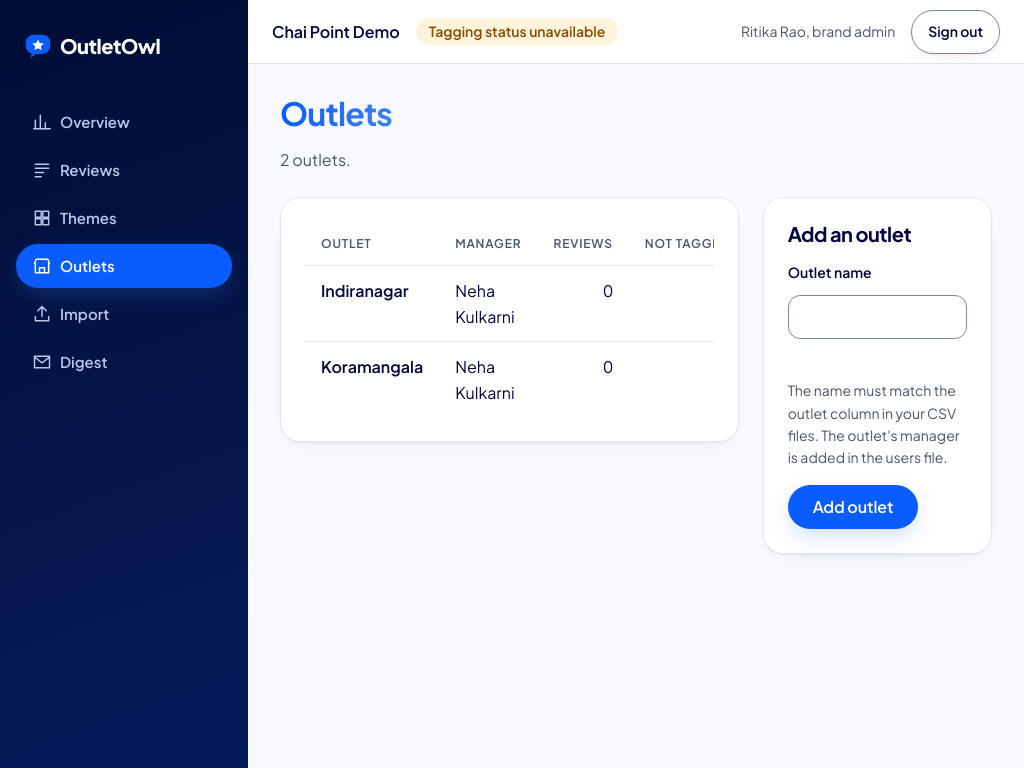
Test: OutletsPage › an added outlet appears in the table in name order
Expected: the column heading "Koramangala" is shown, left=305, top=342, right=439, bottom=417
Type "HSR Layout" into the field labelled "Outlet name". click: (877, 317)
box: left=788, top=295, right=967, bottom=339
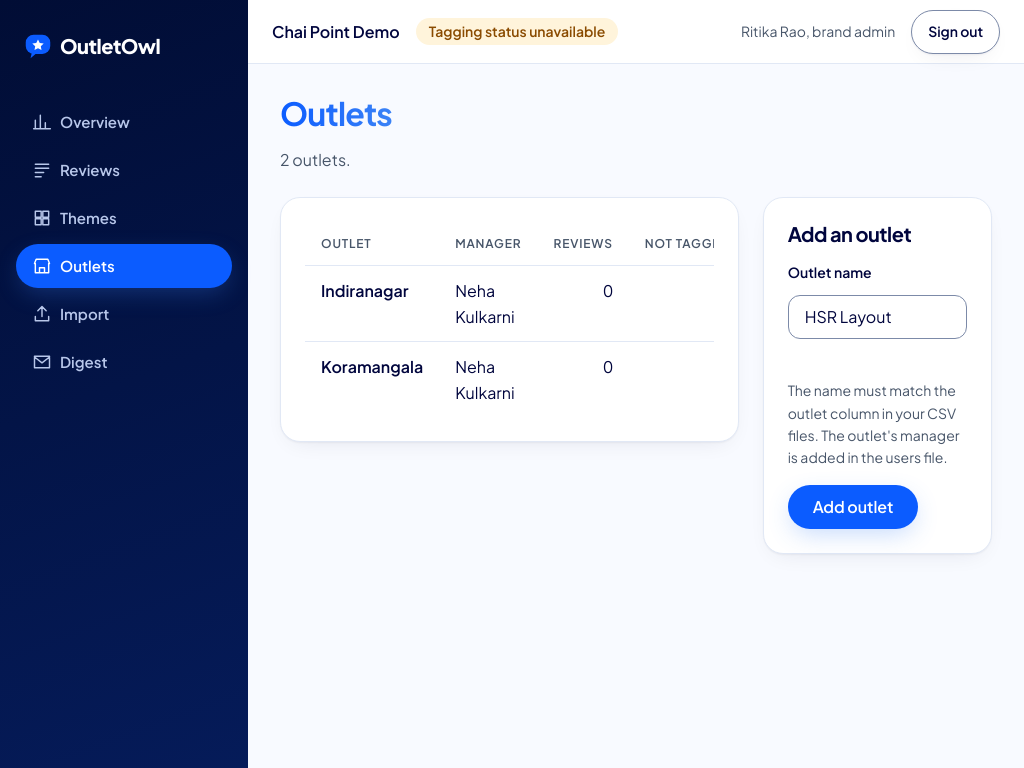
Click the button "Add outlet". click: (853, 507)
box: left=788, top=485, right=918, bottom=529
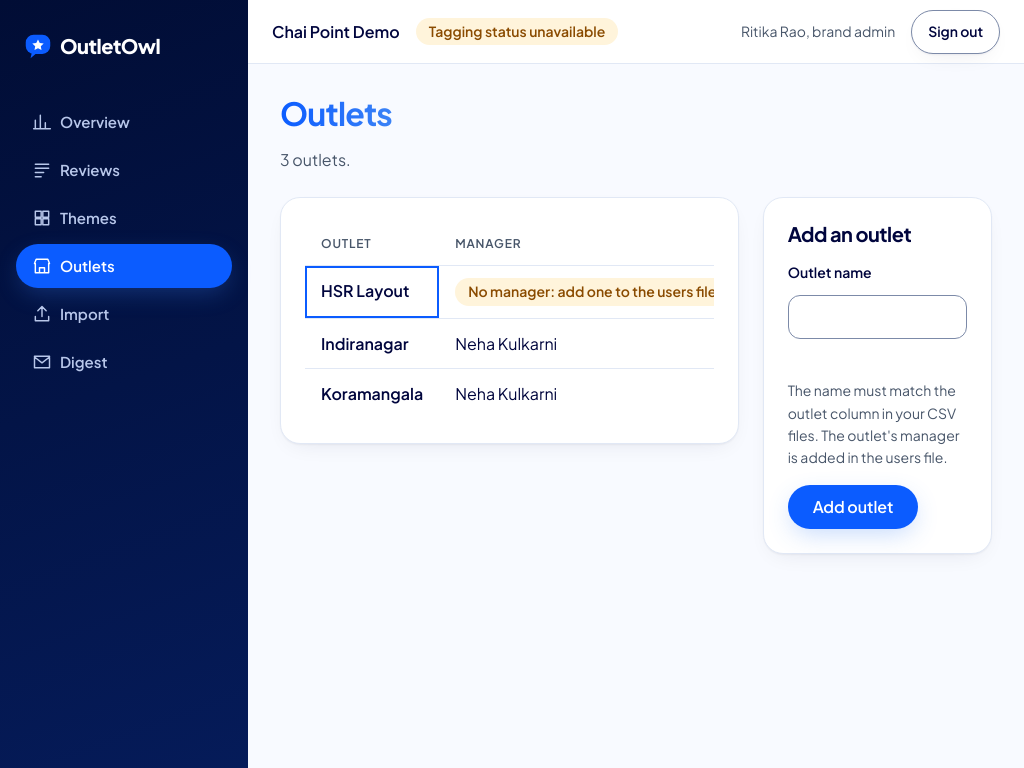
Expected: the field labelled "Outlet name" is empty, left=788, top=295, right=967, bottom=339
Expected: the text "3" is shown, left=280, top=149, right=290, bottom=170
